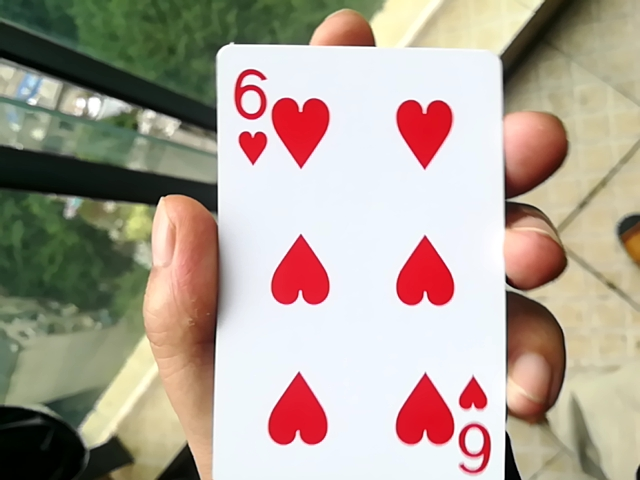hx 6: (198, 26, 511, 480)
